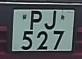2: (35, 30, 51, 51)
5: (19, 30, 36, 52)
7: (50, 28, 67, 51)
J: (43, 10, 58, 30)
P: (29, 10, 44, 31)
